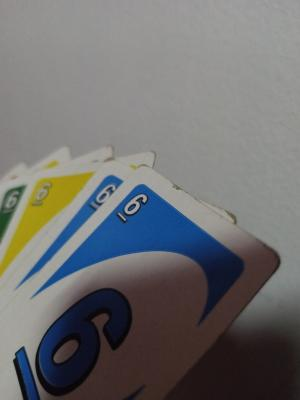num_6: (120, 195, 155, 225), (92, 181, 116, 211), (34, 182, 58, 208), (4, 188, 22, 216)
